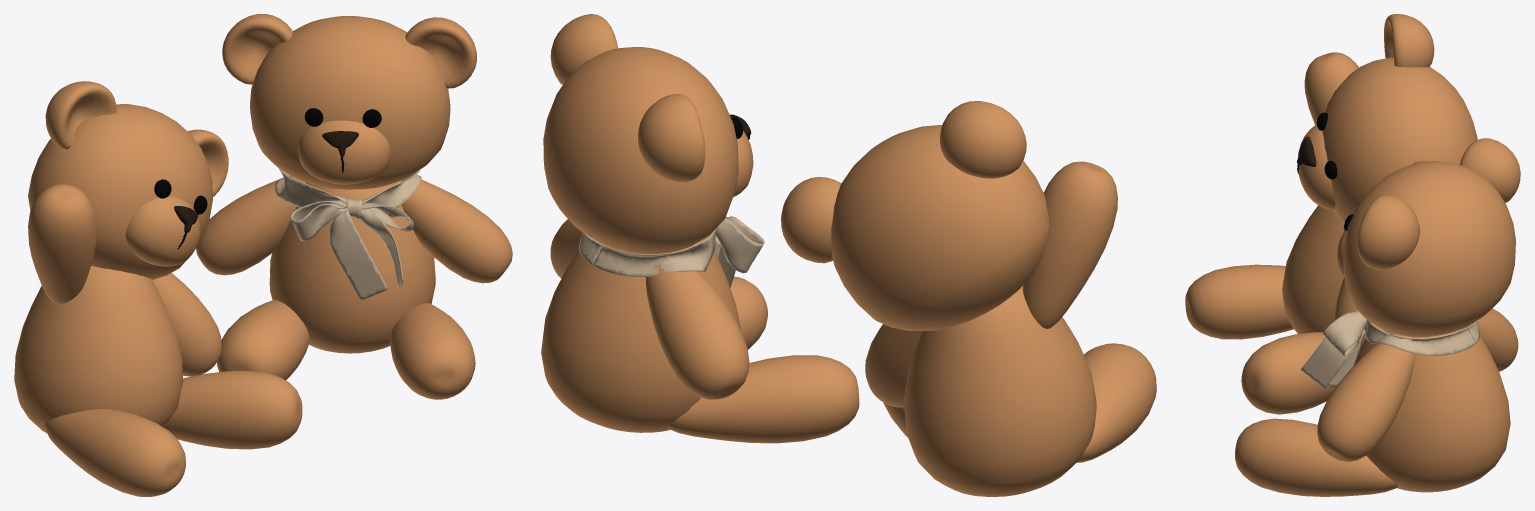
The model's file is Teddy bears.fbx.
3 views of the same model, side by side, from view 1: azimuth 30°, elevation 25°; view 2: azimuth 150°, elevation 25°; view 3: azimuth 270°, elevation 25° (orthographic). The views are drawn at different scales.
Visible parts, largest first — view 1: bear.002, bear.009; view 2: bear.009, bear.002; view 3: bear.002, bear.009.
Boxes of the visible parts, <box> form: bear.002: <box>196,14,512,399</box>; bear.009: <box>14,81,302,496</box>; bear.009: <box>781,101,1156,496</box>; bear.002: <box>541,14,859,443</box>; bear.002: <box>1235,138,1520,496</box>; bear.009: <box>1185,14,1477,414</box>.
Size of the model in its own units: 72.41 by 50.19 by 44.62.
